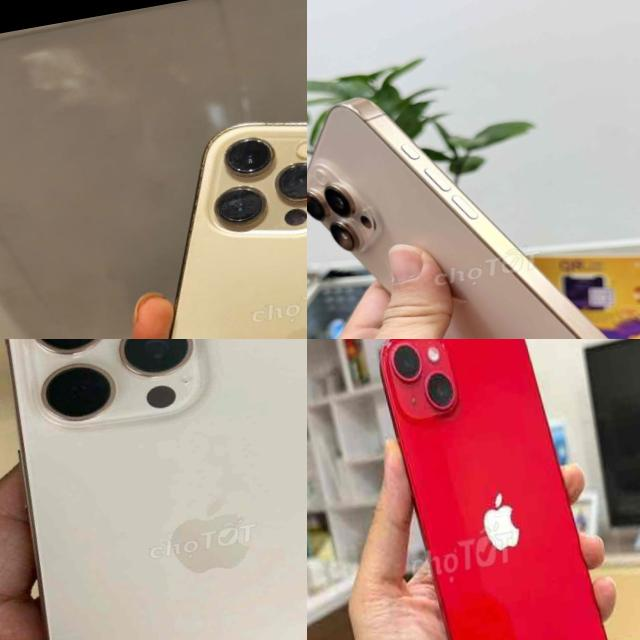gen_12_13: (50, 77, 307, 339)
gen_14: (369, 339, 638, 640)
gen_16: (6, 339, 307, 640), (307, 98, 609, 339)
